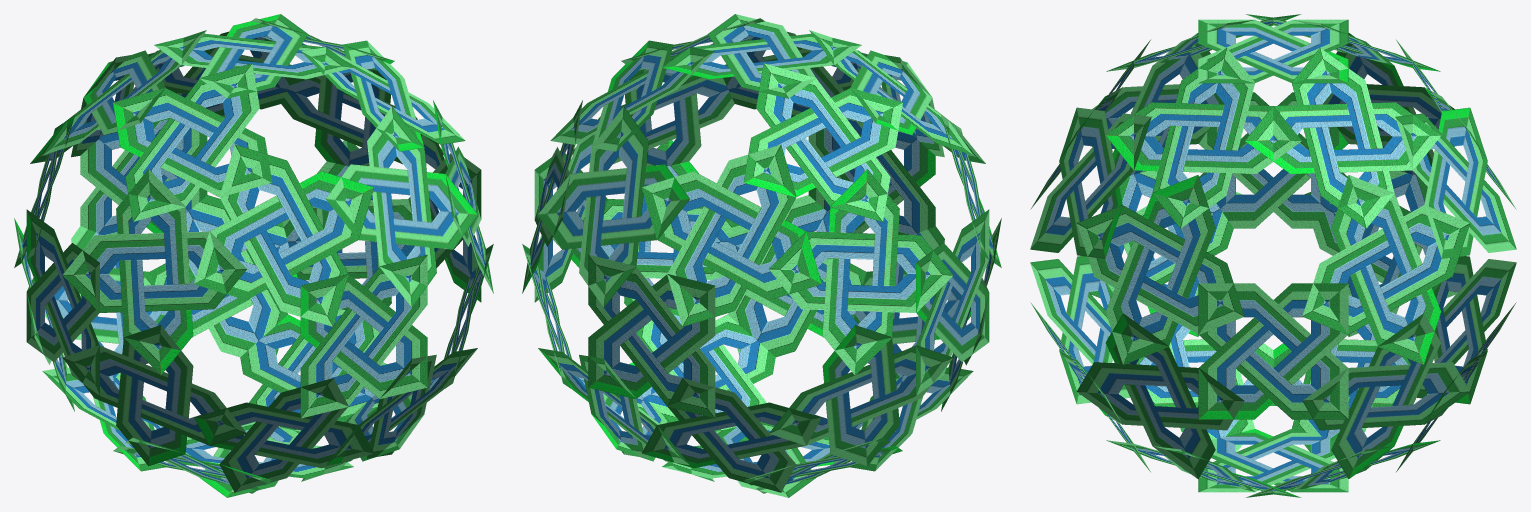
The model's file is 26TruncatedDodecadodecahedron.gltf.
The picture shows the model from 3 angles, left to right: view 1: azimuth 30°, elevation 25°; view 2: azimuth 150°, elevation 25°; view 3: azimuth 270°, elevation 25°; orthographic projection. The views are drawn at different scales.
Visible parts, largest first — view 1: 1TruncatedDodecadodecahedron; view 2: 1TruncatedDodecadodecahedron; view 3: 1TruncatedDodecadodecahedron.
Boxes of the visible parts, x1=… form: 1TruncatedDodecadodecahedron: x1=14, y1=14, x2=493, y2=497; 1TruncatedDodecadodecahedron: x1=522, y1=14, x2=1001, y2=497; 1TruncatedDodecadodecahedron: x1=1030, y1=14, x2=1516, y2=497.
Bounding box in the file's own units: 3.24 × 3.24 × 3.24.
Materials: 1 (1 with a texture image).
